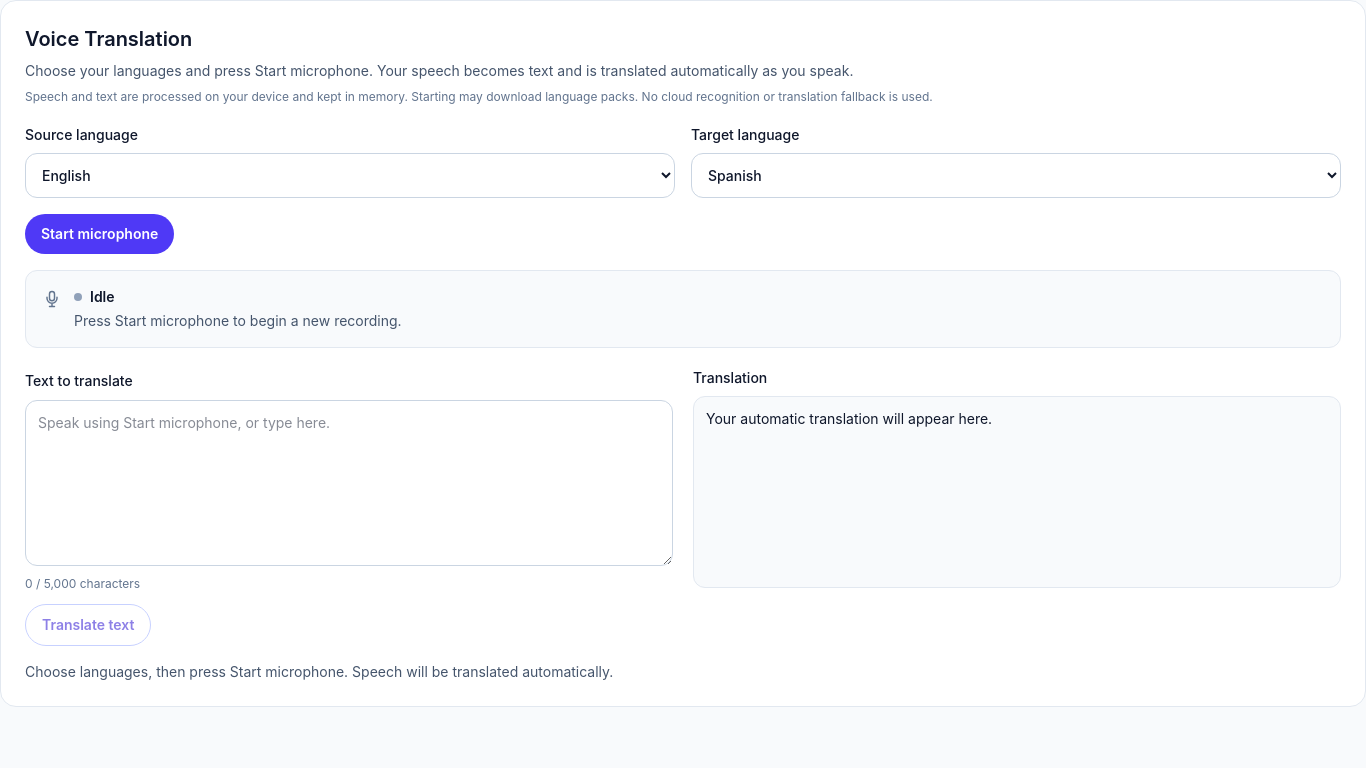
cancels model preparation and destroys a late translator without starting the microphone
The image size is (1366, 768).
Click the button "Start microphone": click(100, 234) [25,214,174,254]
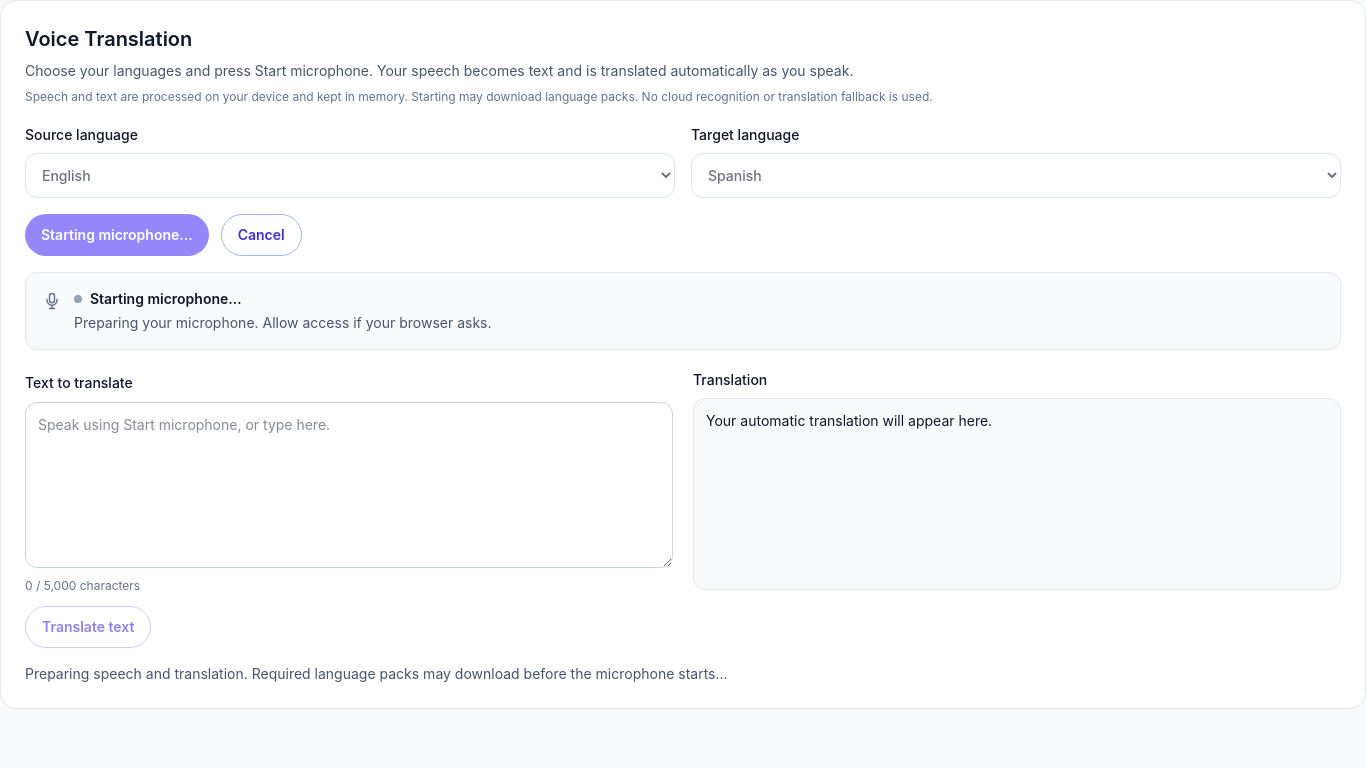
Click the button "Cancel": click(261, 235) [221,214,302,256]
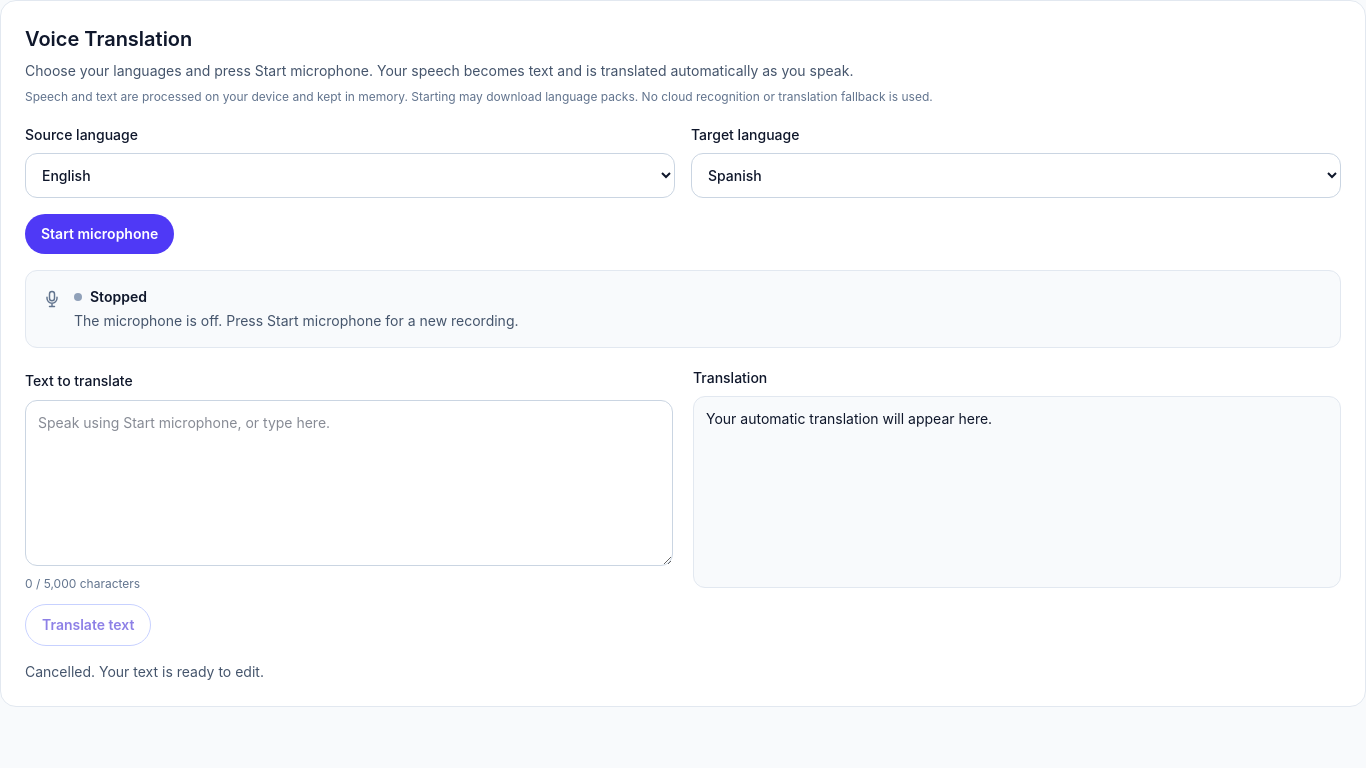
Expected: the button "Start microphone" is enabled, [25,214,174,254]
